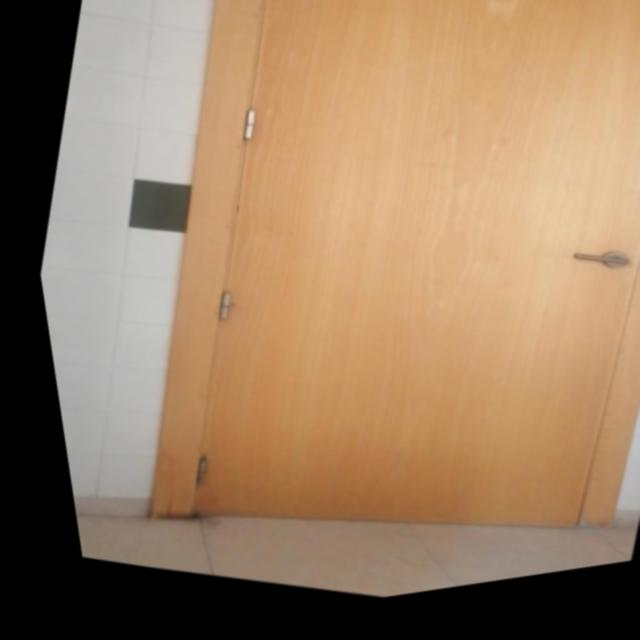door_handle: (558, 261, 626, 296)
